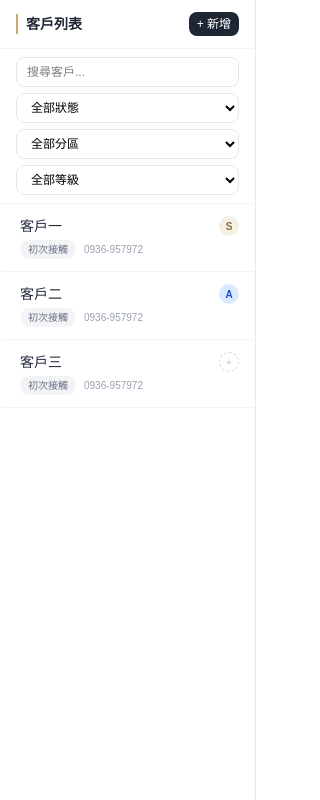
it: ClientList — 客戶分級標籤 › 篩選器選 S 時，只顯示已分級為 S 的客戶
Select "S" in the dropdown with test id "grade-filter". click: (128, 180)
box: [16, 165, 239, 195]
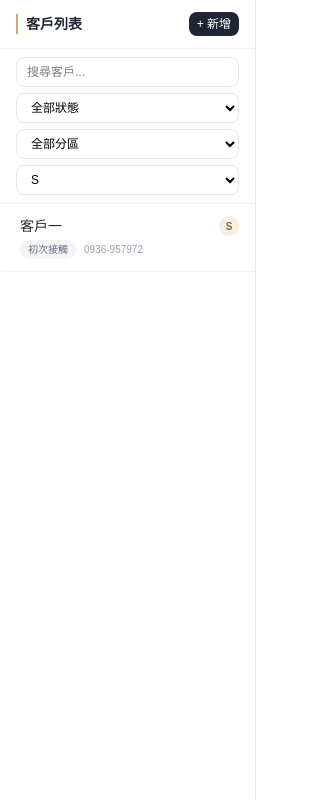
Check: the text "客戶一" is shown, box [20, 216, 62, 236]
Check: the text "客戶二" is gone
Check: the text "客戶三" is gone
